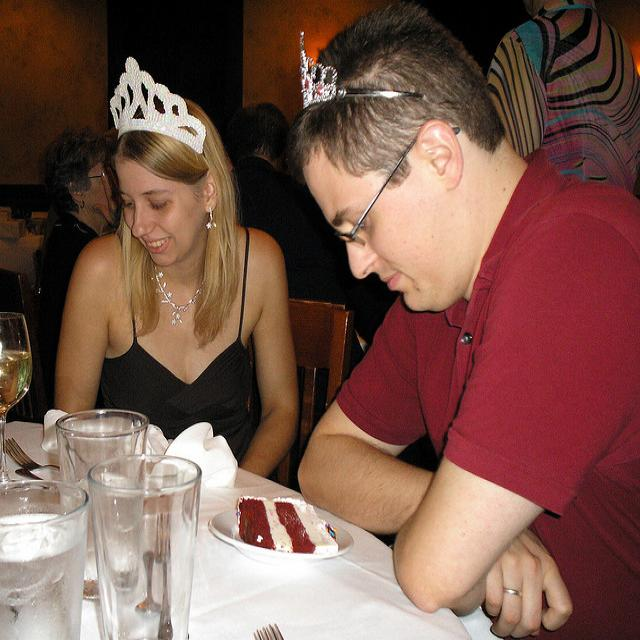chair: (264, 298, 351, 493)
dining table: (148, 433, 470, 630)
